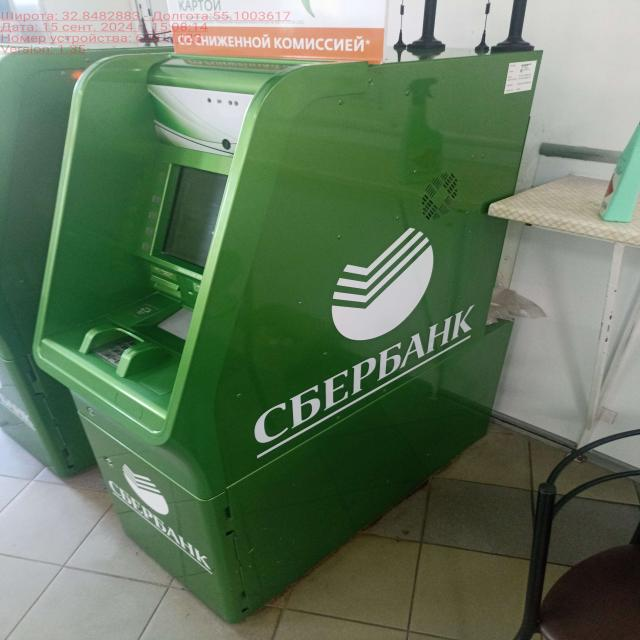bank: (33, 43, 536, 623), (0, 41, 162, 479)
